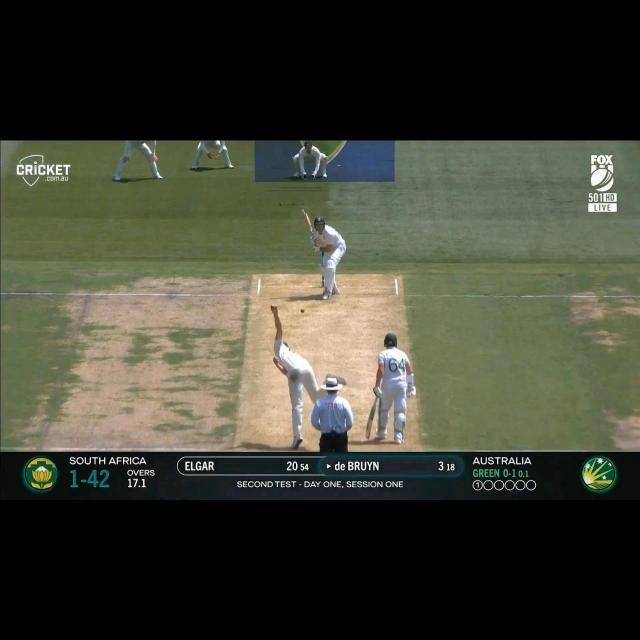bat: (364, 404, 376, 440), (301, 207, 314, 236)
toe: (364, 431, 371, 441), (302, 207, 308, 217)
